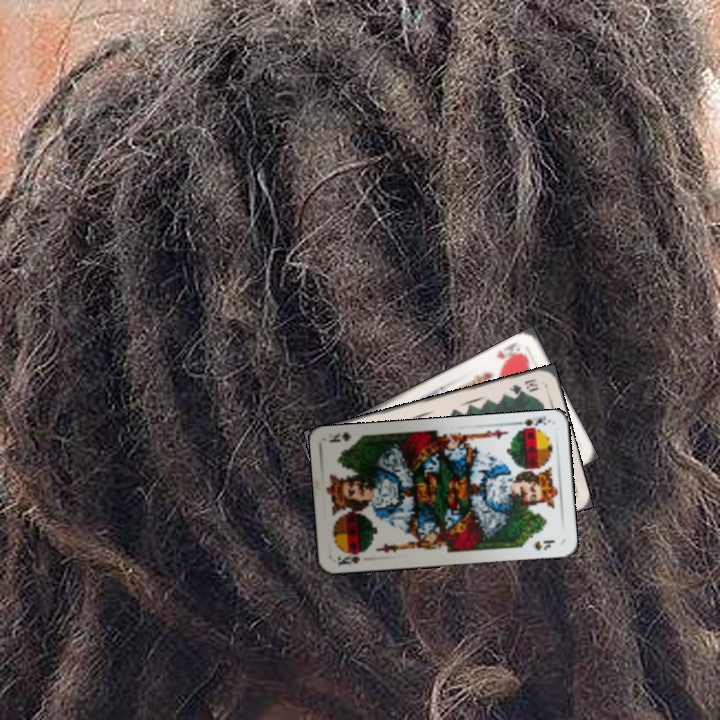G10: (505, 375, 541, 397)
HK: (493, 338, 525, 366)
SK: (512, 413, 552, 435), (333, 547, 368, 569)
